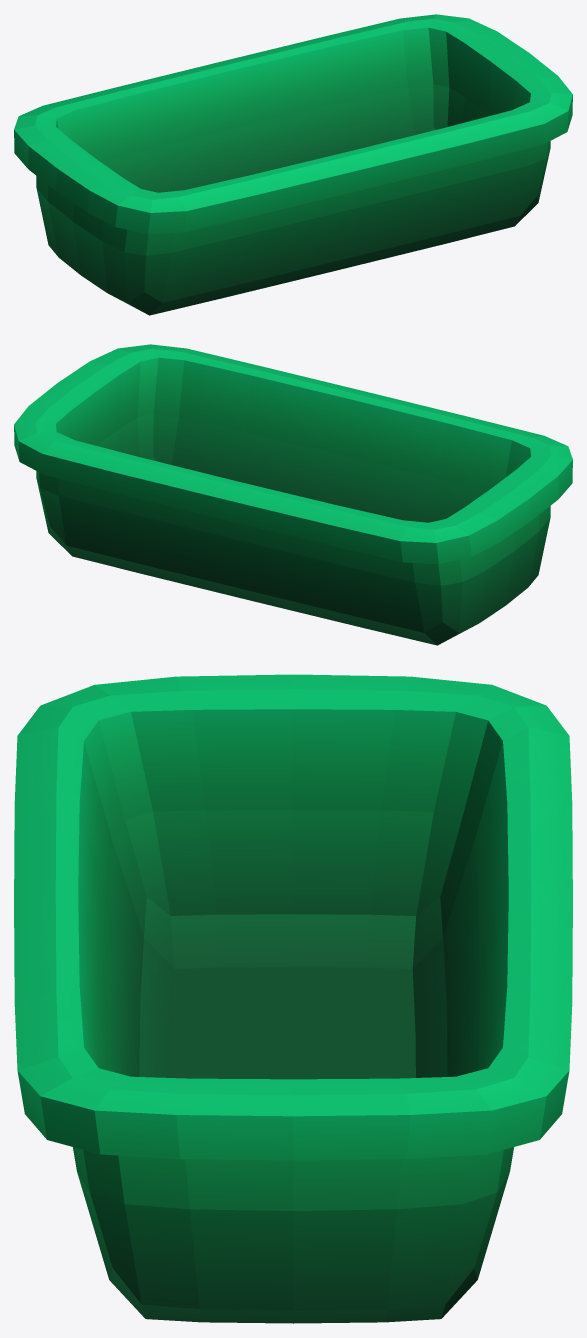
File: PlantPot_LongB.fbx
The picture shows the model from 3 angles, top to bottom: view 1: azimuth 30°, elevation 25°; view 2: azimuth 150°, elevation 25°; view 3: azimuth 270°, elevation 25°; orthographic projection. The views are drawn at different scales.
Parts seen in each view (by area): view 1: PlantPot_LongB; view 2: PlantPot_LongB; view 3: PlantPot_LongB.
Boxes of the visible parts, bbox=[...] form: PlantPot_LongB: bbox=[14, 14, 572, 315]; PlantPot_LongB: bbox=[14, 344, 572, 645]; PlantPot_LongB: bbox=[14, 674, 572, 1323].
Bounding box in the file's own units: 67.58 × 18.16 × 35.94.
